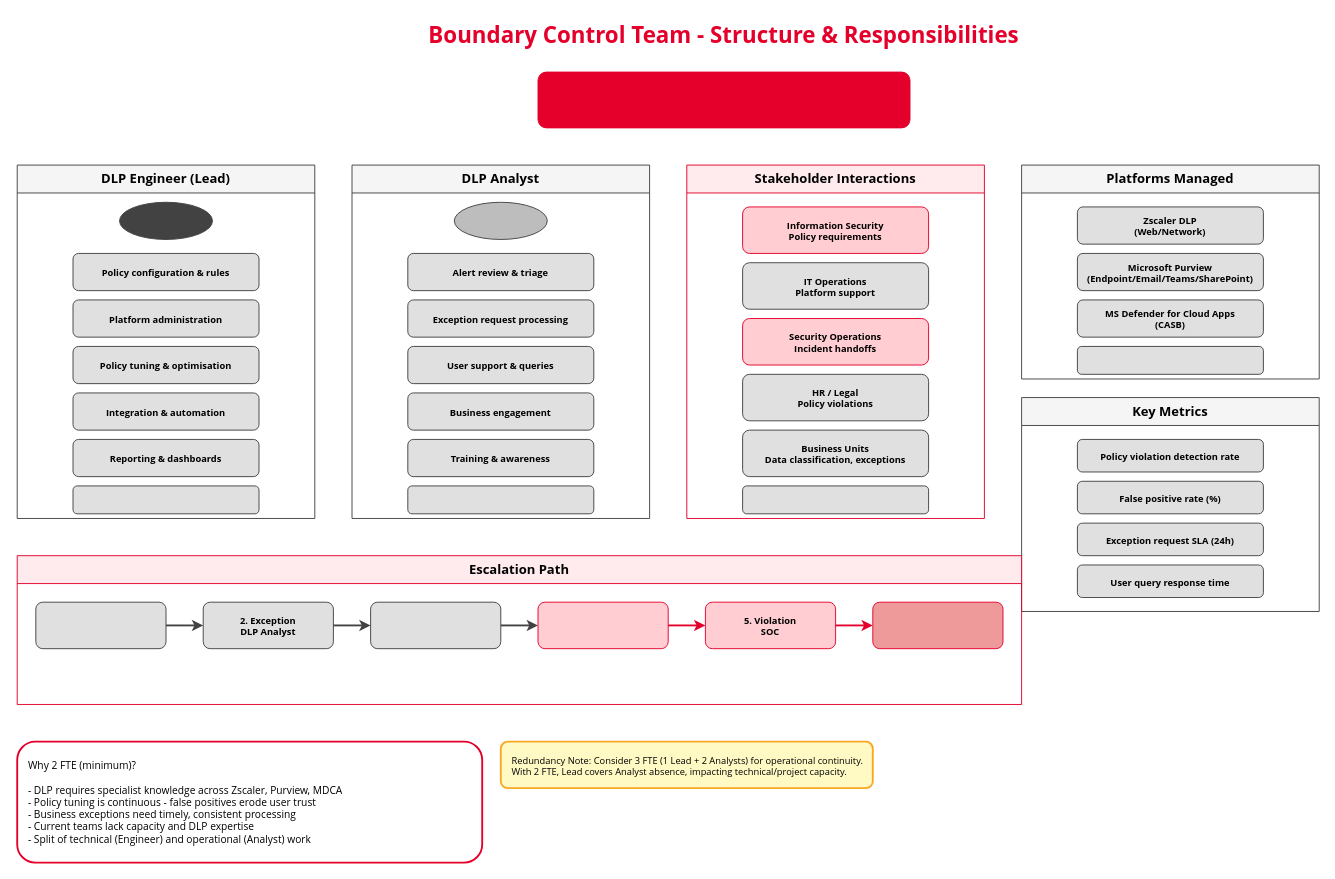
Some shapes in this 1335 by 879 pixel diagram are drawn without their labels. The shapes that lost their labels are listed below. From the top down, each one's centre as x and y in pixels, then its label:
[723,99]: Boundary Control Team 2 FTE - New Capability
[166,220]: Focus: Technical
[500,220]: Focus: Operational
[1169,359]: Microsoft Intune (Mobile)
[165,499]: New capability projects
[500,499]: Documentation
[835,499]: End Users Support, training
[100,625]: 1. User Block Self-service
[435,625]: 3. Complex DLP Engineer
[602,625]: 4. Risk Decision InfoSec
[937,625]: 6. Insider Threat HR/Legal
